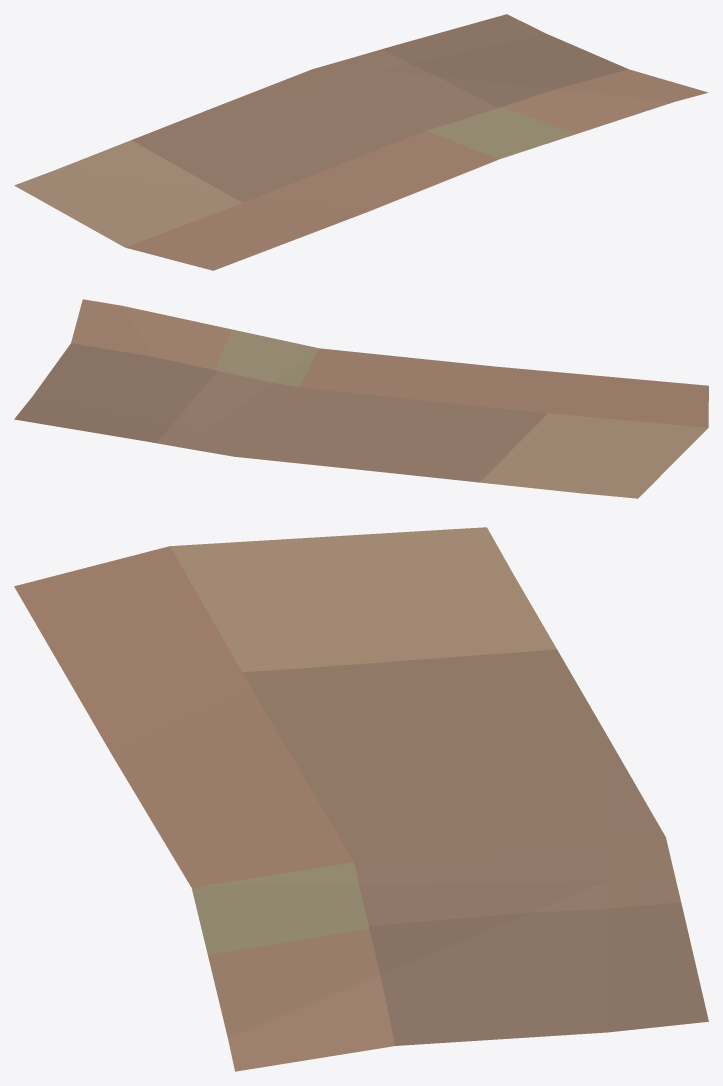
File: farm_-36_-36_soil.glb
The picture shows the model from 3 angles, top to bottom: view 1: azimuth 30°, elevation 25°; view 2: azimuth 150°, elevation 25°; view 3: azimuth 270°, elevation 25°; orthographic projection. The views are drawn at different scales.
Visible parts, largest first — view 1: geometry_0; view 2: geometry_0; view 3: geometry_0.
Boxes of the visible parts, x1,y1,x2,y2 form: geometry_0: (14,14,708,270); geometry_0: (14,299,708,498); geometry_0: (14,527,708,1071).
Size of the model in its own units: 126 by 2.24 by 69.2.
